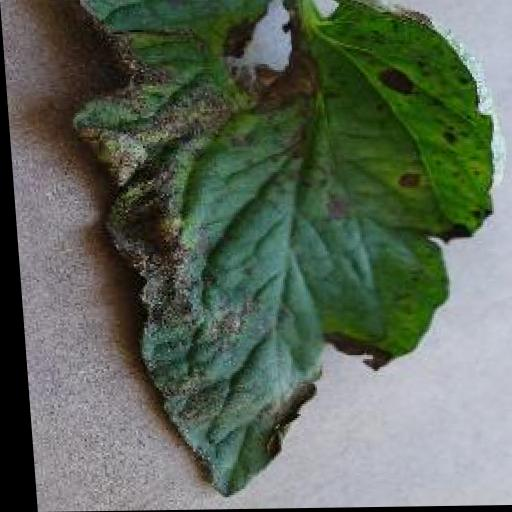Early Blight: (64, 0, 512, 499)
